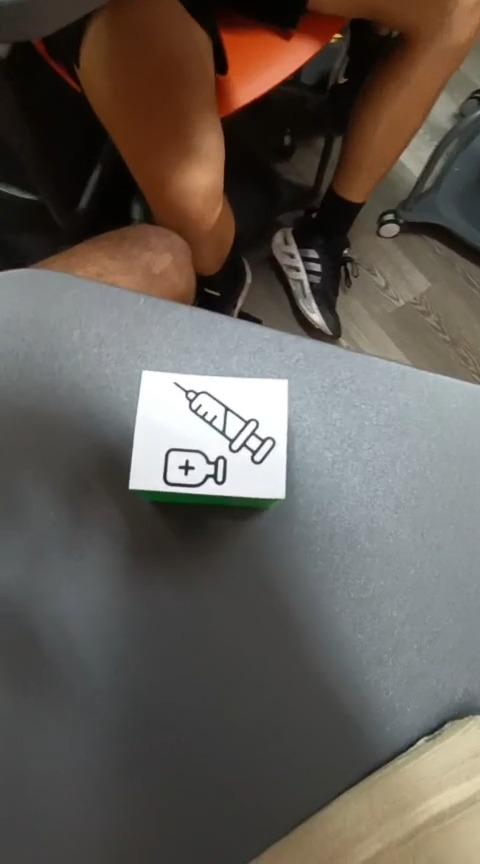antiseptic cream: (126, 367, 289, 509)
